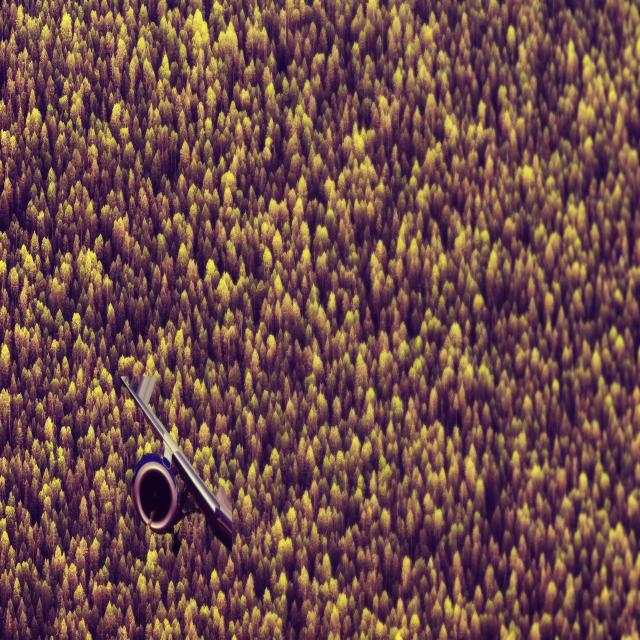airplane: (120, 371, 233, 553)
